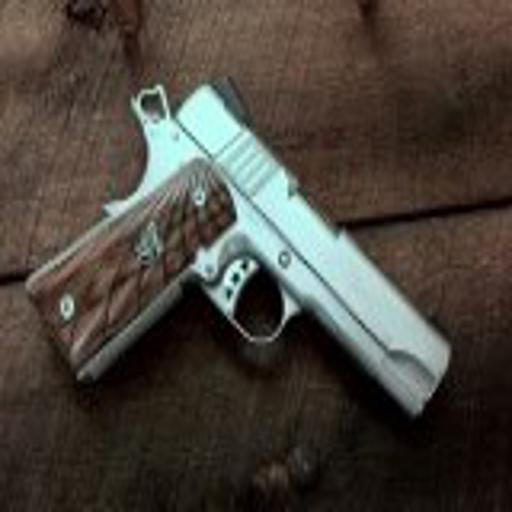Handgun: (21, 75, 456, 421)
